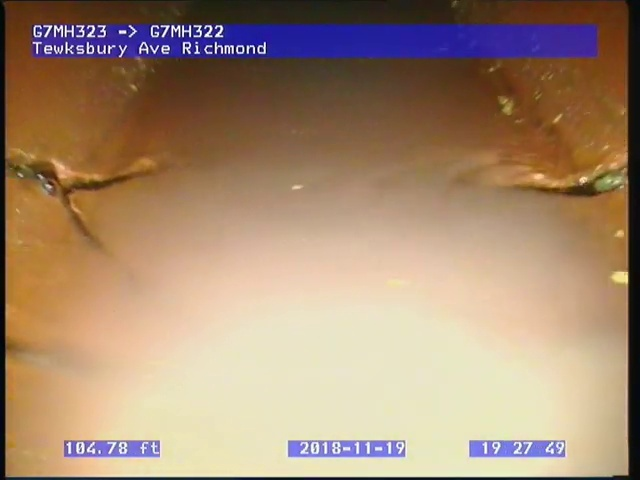crack: (4, 143, 164, 256), (503, 161, 627, 202)
